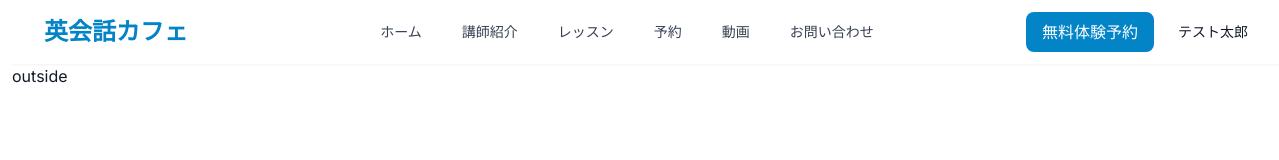
Test: Header dropdown › closes when an outside click occurs
This screenshot has width=1279, height=160.
Click the button "テスト太郎".
click(1213, 32)  # box [1166, 14, 1260, 50]
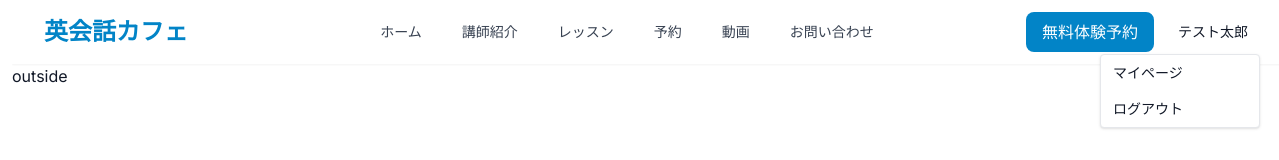
Expected: the link "マイページ" is shown, [1113, 64, 1183, 81]
Press the mouse on the text with test id "outside" at (40, 76), box [12, 66, 68, 86]
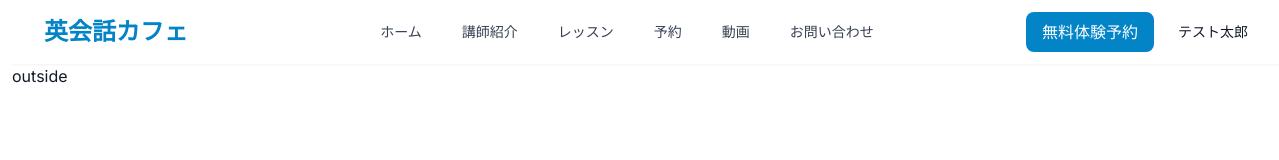
Expected: the link "マイページ" is gone
